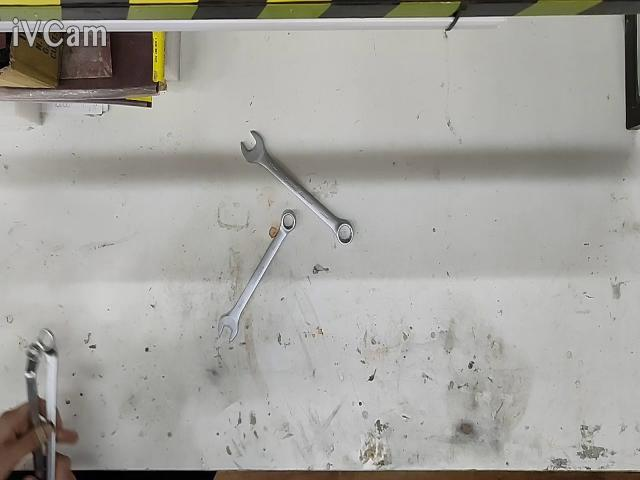Hand: (0, 403, 40, 479)
Wrench: (240, 130, 354, 244), (218, 210, 296, 341), (38, 328, 59, 480), (25, 343, 40, 427)
